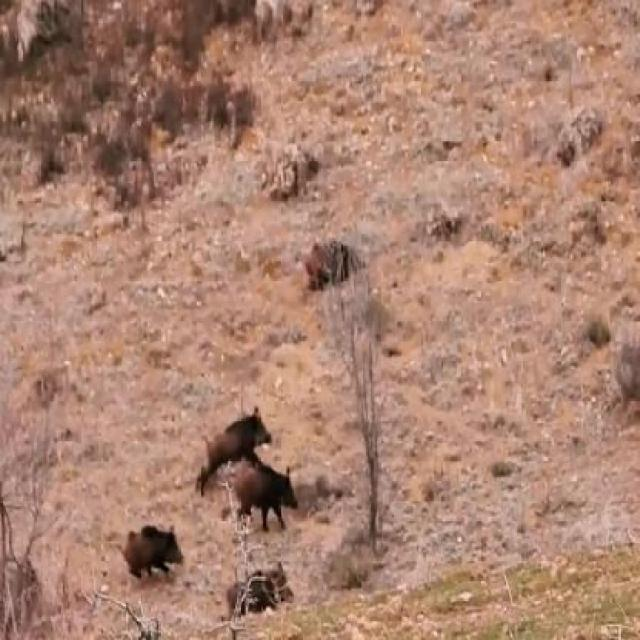pig: (237, 442, 318, 556), (188, 398, 278, 481), (235, 561, 308, 640), (124, 502, 178, 600)
